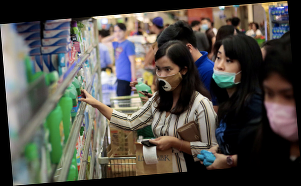mask_weared_incorrect: (211, 48, 241, 88)
with_mask: (262, 79, 296, 139), (155, 62, 183, 92)
without_mask: (113, 28, 126, 41)
